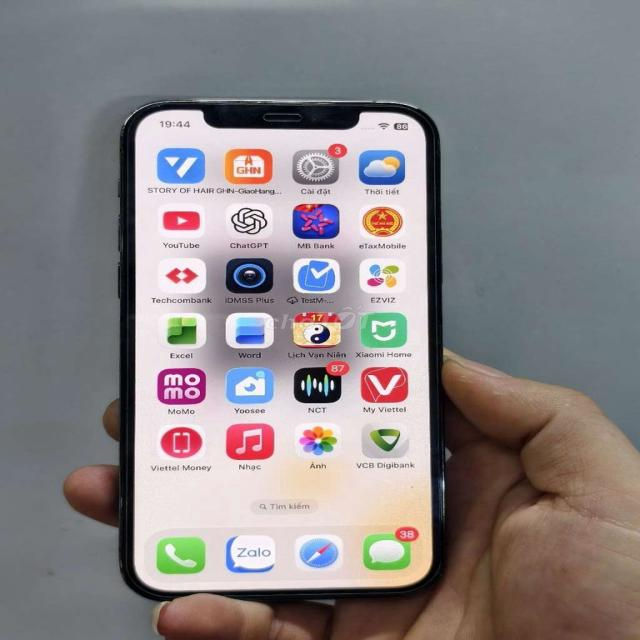gen_12_13: (100, 88, 453, 607)
